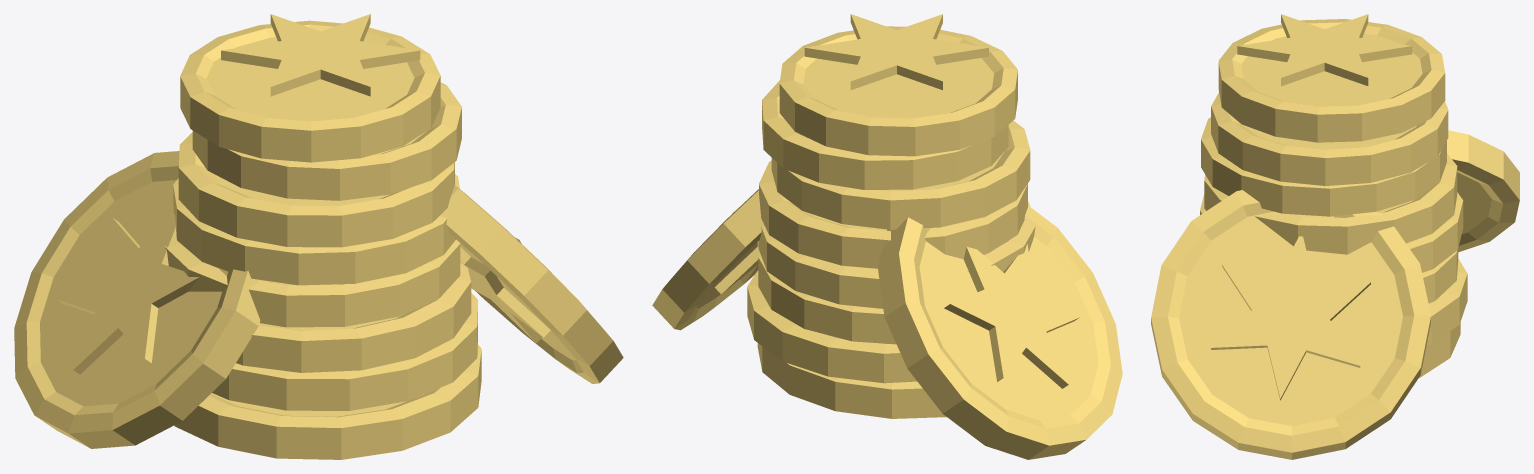
The model's file is pickups-and-collectibles-coin-stack-953530c2__19855.glb.
The picture shows the model from 3 angles, left to right: view 1: azimuth 30°, elevation 25°; view 2: azimuth 150°, elevation 25°; view 3: azimuth 270°, elevation 25°; orthographic projection. The views are drawn at different scales.
Parts seen in each view (by area): view 1: body/gold; view 2: body/gold; view 3: body/gold.
Part boxes in pixels (x1=…): body/gold: x1=14, y1=14, x2=623, y2=459; body/gold: x1=652, y1=14, x2=1122, y2=459; body/gold: x1=1151, y1=14, x2=1519, y2=459.
Bounding box in the file's own units: 0.4508 × 0.3113 × 0.3293.
